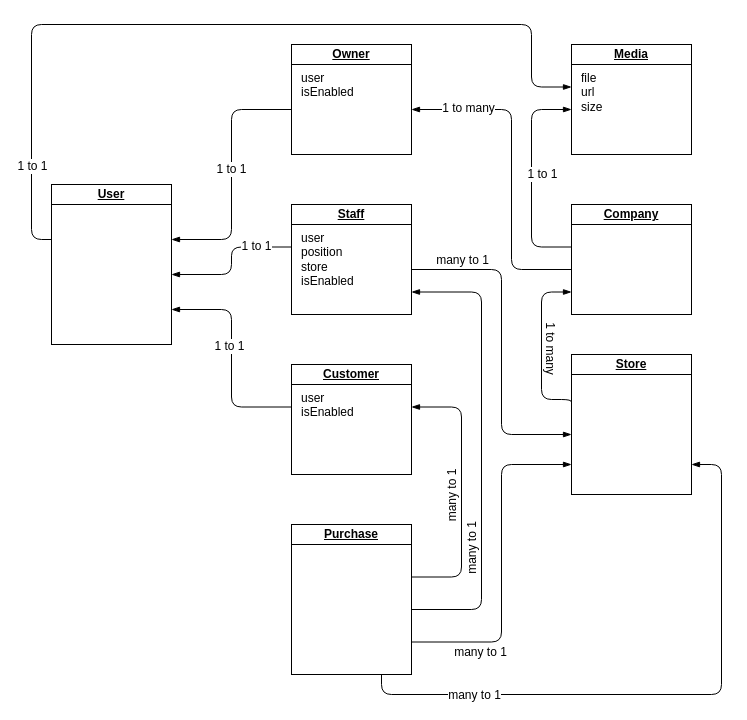
Some shapes in this 747 by 720 pixel diagram are drawn without their labels. Each missing label, with the centre of its shape:
company address city long lat bonusCondition isEnabled: point (631, 434)
email password firstName lastName phone birthday avatar: point (111, 274)
name logo owner bonusCondition isEnabled: point (631, 269)
store company customer staff isBonus: point (351, 609)
